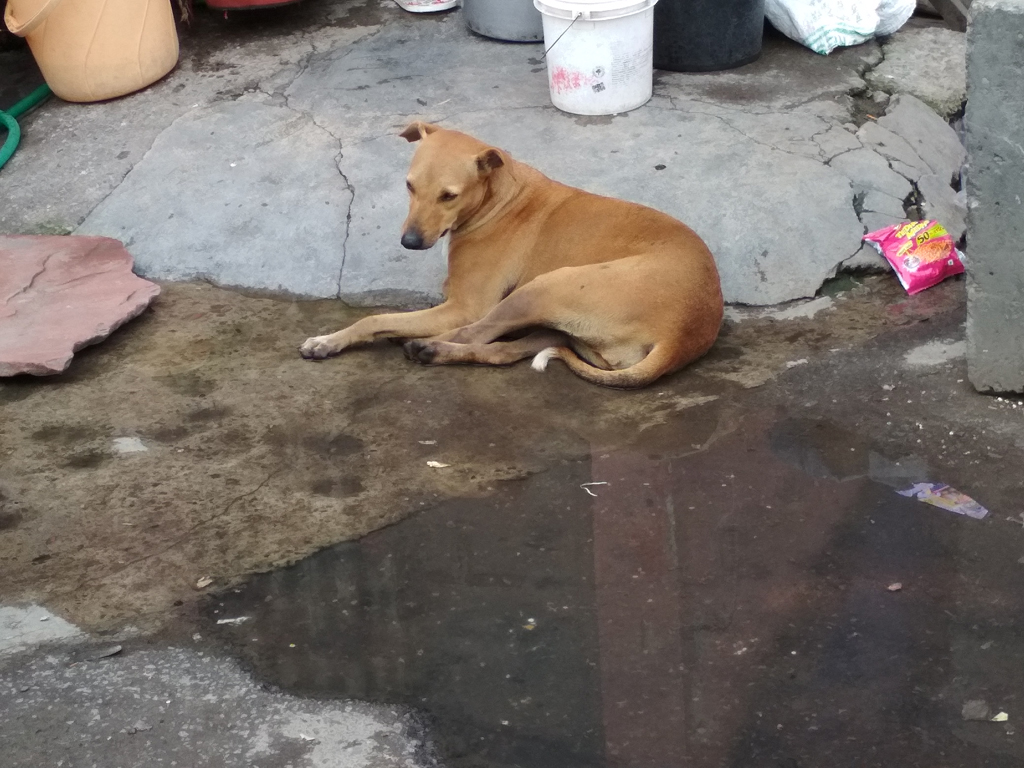dog: (301, 121, 724, 388)
